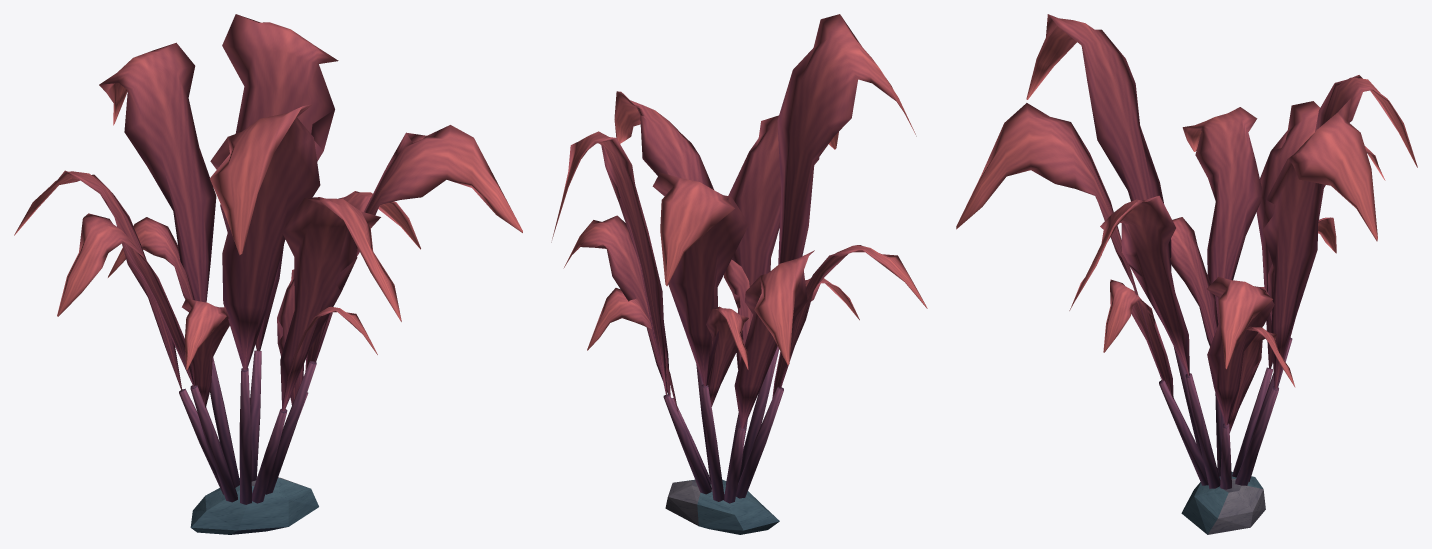
The model's file is Alga_Cinta_Roja.fbx.
3 views of the same model, side by side, from view 1: azimuth 30°, elevation 25°; view 2: azimuth 150°, elevation 25°; view 3: azimuth 270°, elevation 25° (orthographic). The views are drawn at different scales.
Parts seen in each view (by area): view 1: Alga_Cinta_Roja; view 2: Alga_Cinta_Roja; view 3: Alga_Cinta_Roja.
Boxes of the visible parts, left/top/right/bottom form: Alga_Cinta_Roja: left=14, top=14, right=522, bottom=534; Alga_Cinta_Roja: left=551, top=14, right=927, bottom=534; Alga_Cinta_Roja: left=956, top=14, right=1417, bottom=534.
Bounding box in the file's own units: 8.24 × 8.38 × 9.61.
1 material, 1 textured.
